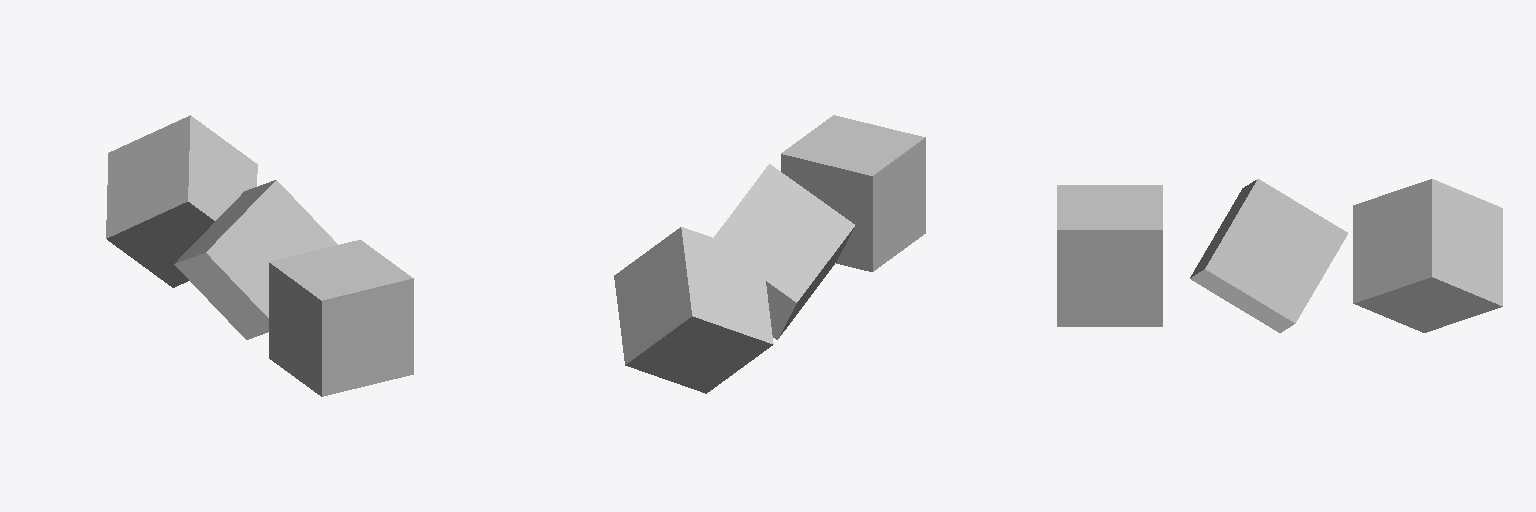
File: 3_cubes.obj
3 renders of one model, left to right at view 1: azimuth 30°, elevation 25°; view 2: azimuth 150°, elevation 25°; view 3: azimuth 270°, elevation 25°, orthographic.
Parts seen in each view (by area): view 1: Cube, Cube.2, Cube.1; view 2: Cube.2, Cube, Cube.1; view 3: Cube.2, Cube, Cube.1.
Part boxes in pixels (bbox=[...]): Cube: bbox=[269, 240, 413, 396]; Cube.2: bbox=[106, 115, 257, 287]; Cube.1: bbox=[174, 180, 337, 339]; Cube.2: bbox=[614, 227, 773, 393]; Cube: bbox=[781, 115, 925, 271]; Cube.1: bbox=[714, 164, 854, 339]; Cube.2: bbox=[1353, 179, 1502, 332]; Cube: bbox=[1057, 185, 1162, 326]; Cube.1: bbox=[1190, 179, 1347, 332].
Bounding box in the file's own units: 3.39 × 3.43 × 8.41.